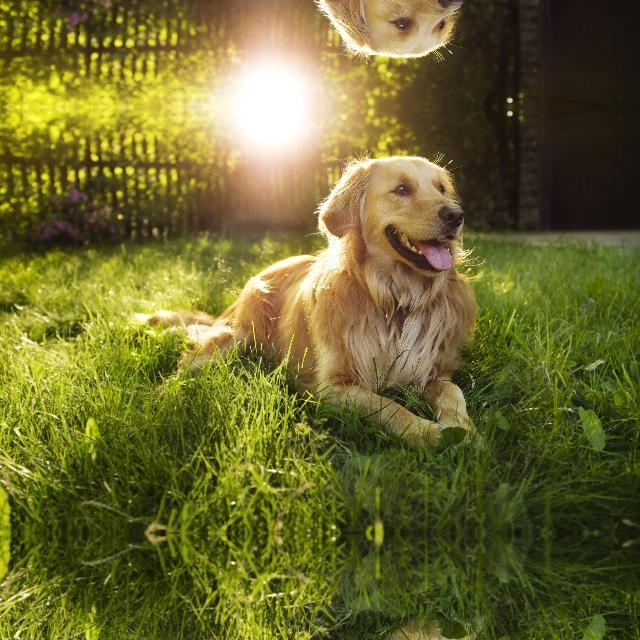dog: (218, 143, 478, 465), (218, 0, 477, 69), (218, 601, 477, 640)
